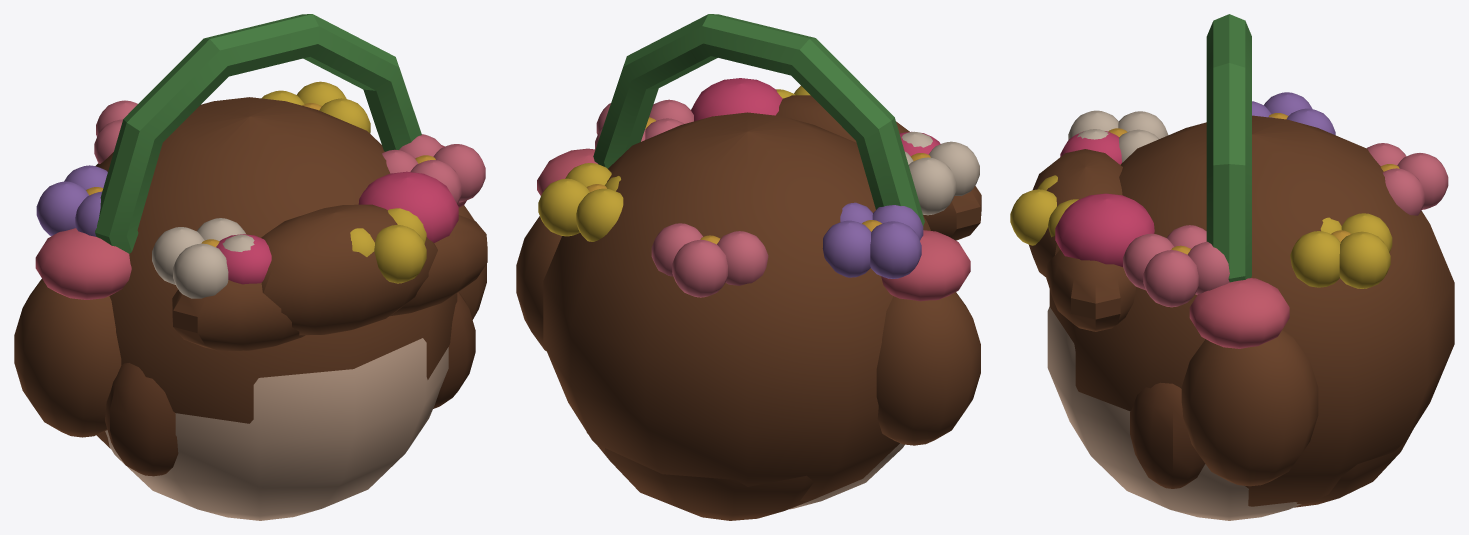
Rendered from girl-flower-balloon-wand-head.glb.
3 views of the same model, side by side, from view 1: azimuth 30°, elevation 25°; view 2: azimuth 150°, elevation 25°; view 3: azimuth 270°, elevation 25° (orthographic). The views are drawn at different scales.
Parts seen in each view (by area): view 1: player_girl-flower-balloon-wand:head; view 2: player_girl-flower-balloon-wand:head; view 3: player_girl-flower-balloon-wand:head.
Part boxes in pixels (bbox=[...]): player_girl-flower-balloon-wand:head: bbox=[14, 14, 487, 520]; player_girl-flower-balloon-wand:head: bbox=[516, 14, 981, 520]; player_girl-flower-balloon-wand:head: bbox=[1010, 14, 1454, 520].
Bounding box in the file's own units: 0.4956 × 0.4988 × 0.4318.
